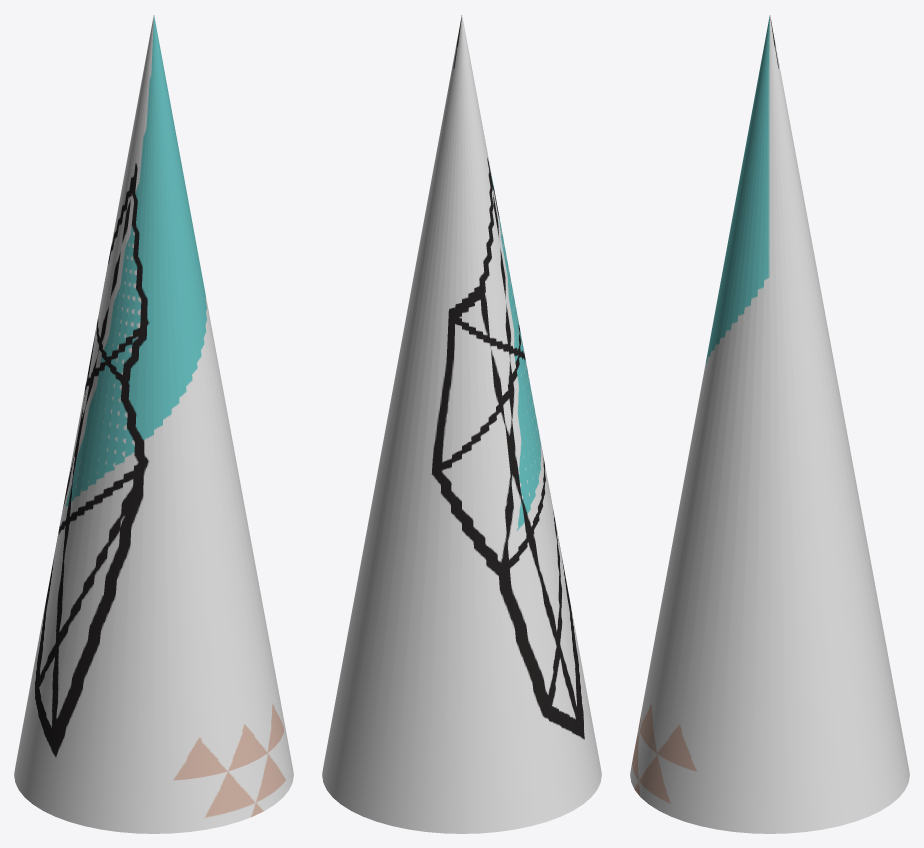
Rendered from ConeSmaller.fbx.
The picture shows the model from 3 angles, left to right: view 1: azimuth 30°, elevation 25°; view 2: azimuth 150°, elevation 25°; view 3: azimuth 270°, elevation 25°; orthographic projection.
Visible parts, largest first — view 1: Cone_1; view 2: Cone_1; view 3: Cone_1.
Part boxes in pixels (<box>): Cone_1: <box>14,15,293,833</box>; Cone_1: <box>322,15,601,833</box>; Cone_1: <box>630,15,909,833</box>.
Bounding box in the file's own units: 50 × 150 × 50.
Materials: 1 (1 with a texture image).
